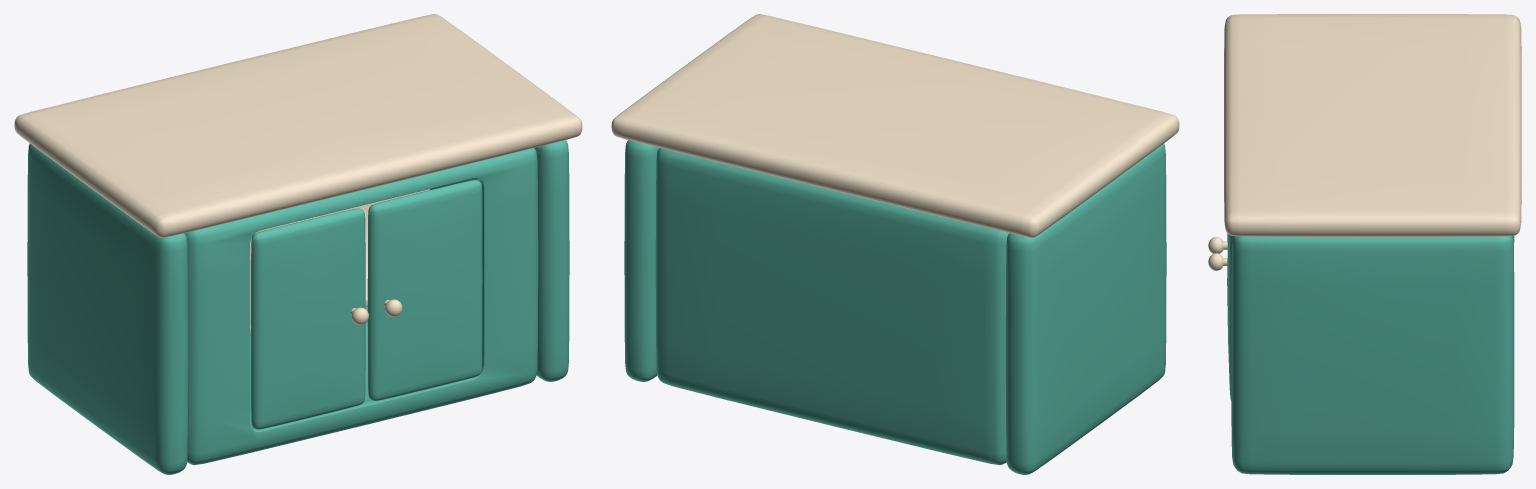
The model's file is island_a.glb.
3 views of the same model, side by side, from view 1: azimuth 30°, elevation 25°; view 2: azimuth 150°, elevation 25°; view 3: azimuth 270°, elevation 25° (orthographic).
Visible parts, largest first — view 1: body, door_l, door_r; view 2: body; view 3: body, door_r.
Part boxes in pixels (x1,y1,x2,y2): body: (14, 14, 582, 474); door_l: (251, 208, 368, 429); door_r: (367, 180, 482, 400); body: (611, 14, 1179, 474); body: (1224, 14, 1521, 474); door_r: (1208, 234, 1232, 400).
Bounding box in the file's own units: 1.54 × 0.925 × 0.979.
